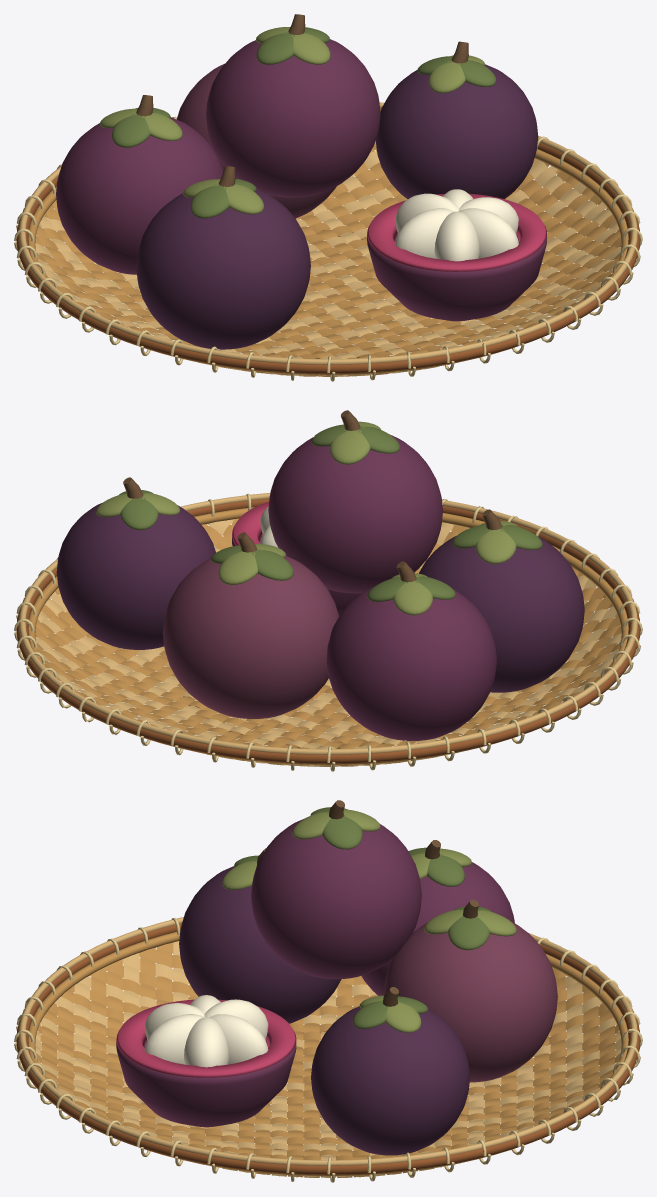
3 renders of one model, top to bottom at view 1: azimuth 30°, elevation 25°; view 2: azimuth 150°, elevation 25°; view 3: azimuth 270°, elevation 25°, orthographic.
Visible parts, largest first — view 1: Whole fruit, Woven tray, Opened fruit, Fruit crowns; view 2: Whole fruit, Woven tray, Fruit crowns, Opened fruit; view 3: Whole fruit, Woven tray, Opened fruit, Fruit crowns.
Boxes of the visible parts, x1=… form: Whole fruit: x1=56, y1=39, x2=538, y2=349; Woven tray: x1=14, y1=102, x2=642, y2=381; Opened fruit: x1=367, y1=189, x2=546, y2=321; Fruit crowns: x1=100, y1=14, x2=496, y2=218; Whole fruit: x1=56, y1=434, x2=584, y2=740; Woven tray: x1=14, y1=493, x2=642, y2=771; Fruit crowns: x1=96, y1=410, x2=542, y2=615; Opened fruit: x1=232, y1=501, x2=361, y2=615; Whole fruit: x1=179, y1=818, x2=557, y2=1155; Woven tray: x1=14, y1=917, x2=642, y2=1182; Opened fruit: x1=116, y1=995, x2=296, y2=1127; Fruit crowns: x1=222, y1=800, x2=516, y2=1032.
Size of the model in its own units: 0.3144 by 0.1582 by 0.3144.
